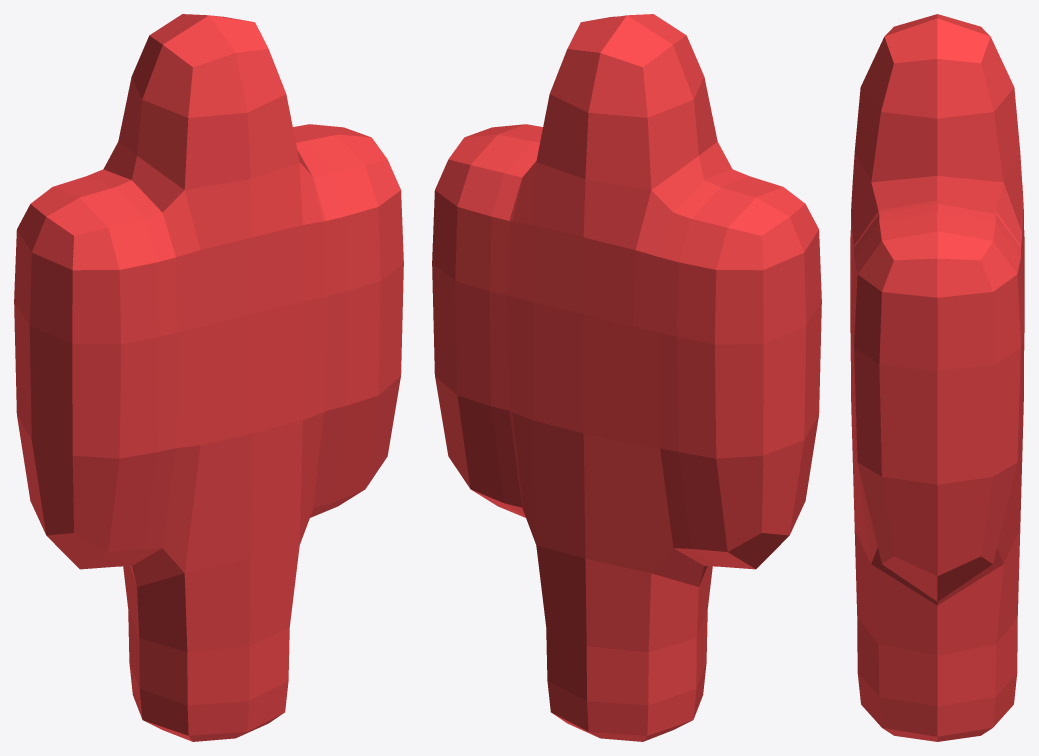
Rendered from 3D_player_placeholdedr.glb.
The picture shows the model from 3 angles, left to right: view 1: azimuth 30°, elevation 25°; view 2: azimuth 150°, elevation 25°; view 3: azimuth 270°, elevation 25°; orthographic projection.
Parts seen in each view (by area): view 1: Cube; view 2: Cube; view 3: Cube.
Part boxes in pixels (x1,y1,x2,y2): Cube: (14,14,403,741); Cube: (432,14,821,741); Cube: (850,14,1024,741).
Bounding box in the file's own units: 3.32 × 6.26 × 1.4.
Materials: 1 (1 with a texture image).
